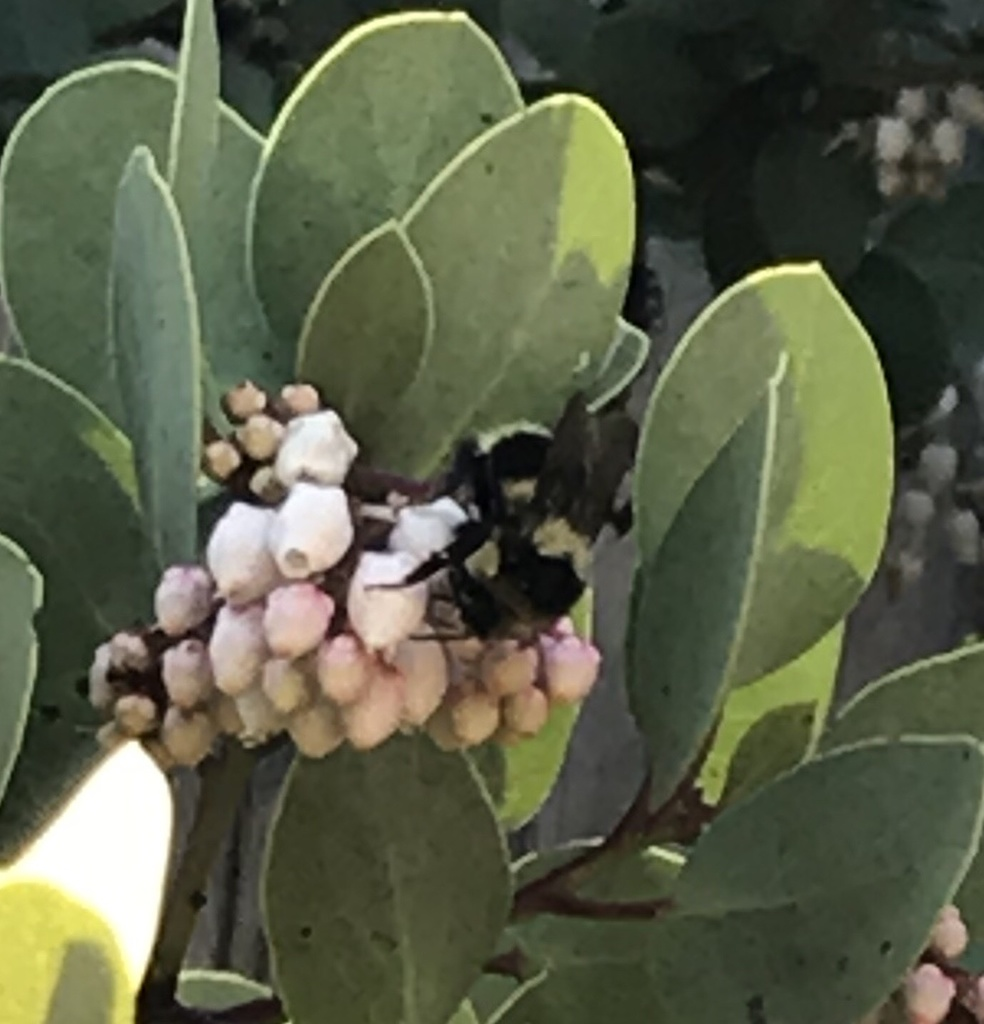bumblebee: (364, 392, 642, 645)
